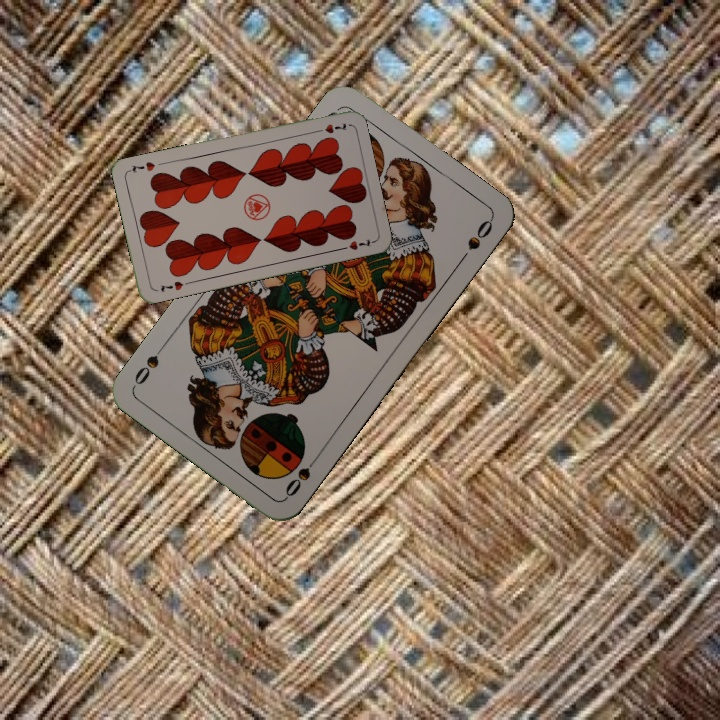H7: (310, 119, 349, 136), (156, 277, 186, 295)
SO: (281, 450, 323, 500)
